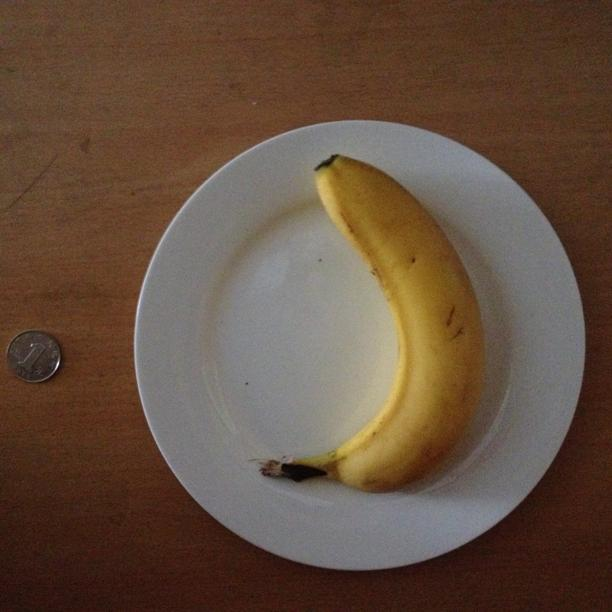banana: (298, 155, 482, 491)
coin: (6, 329, 63, 383)
